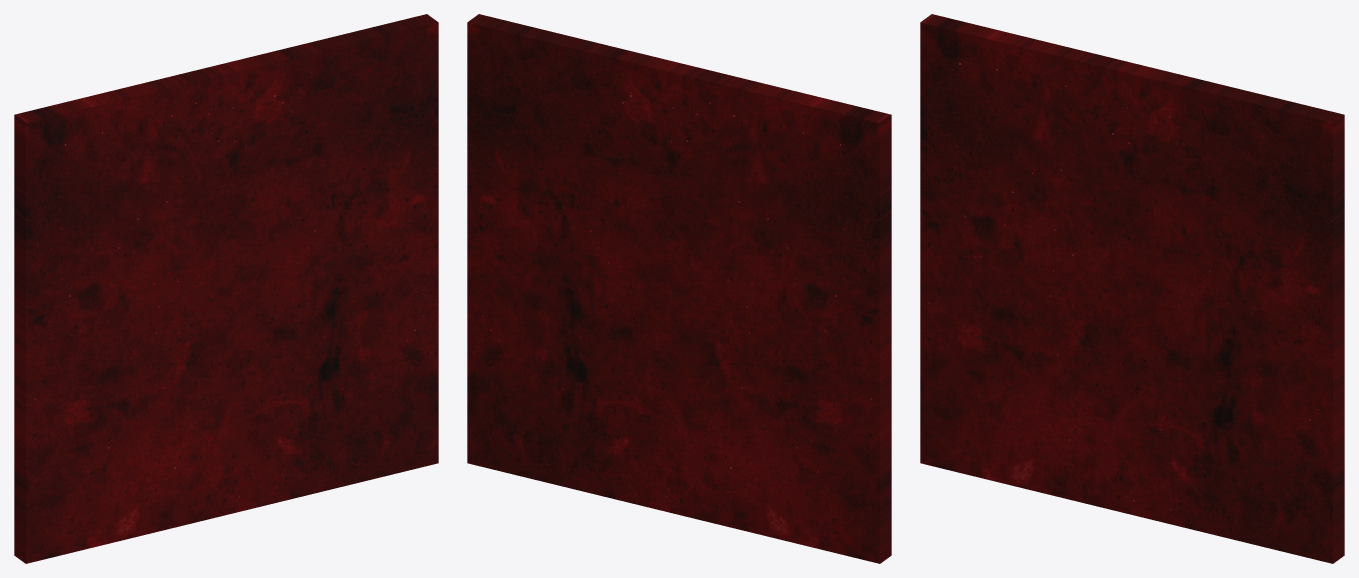
Rendered from redPaper.glb.
The picture shows the model from 3 angles, left to right: view 1: azimuth 30°, elevation 25°; view 2: azimuth 150°, elevation 25°; view 3: azimuth 330°, elevation 25°; orthographic projection.
Parts seen in each view (by area): view 1: SavePaper; view 2: SavePaper; view 3: SavePaper.
Boxes of the visible parts, x1=… form: SavePaper: x1=14, y1=14, x2=438, y2=563; SavePaper: x1=467, y1=14, x2=891, y2=563; SavePaper: x1=920, y1=14, x2=1344, y2=563.
Size of the model in its own units: 1.45 by 1.48 by 0.0701.
1 material, 1 textured.
